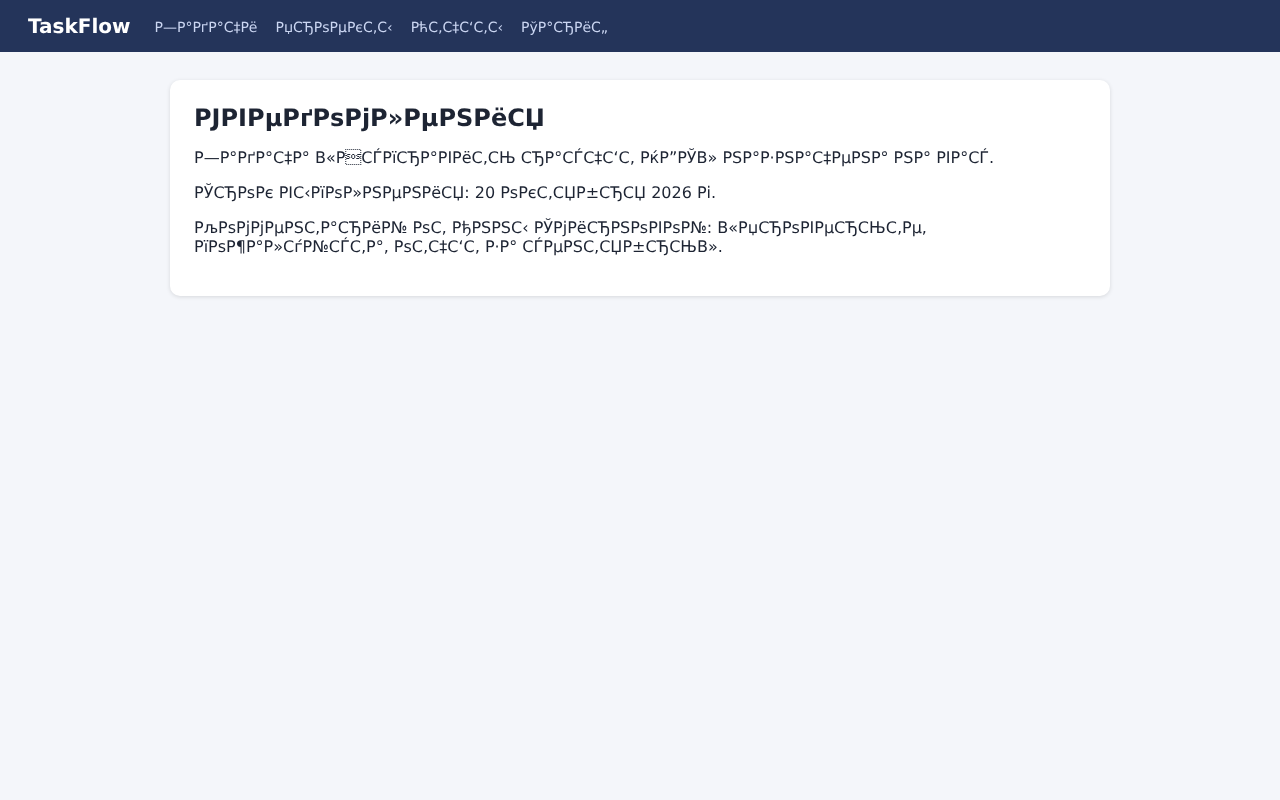DEFECT_AREA: (195, 107, 993, 256), (156, 21, 607, 35)
